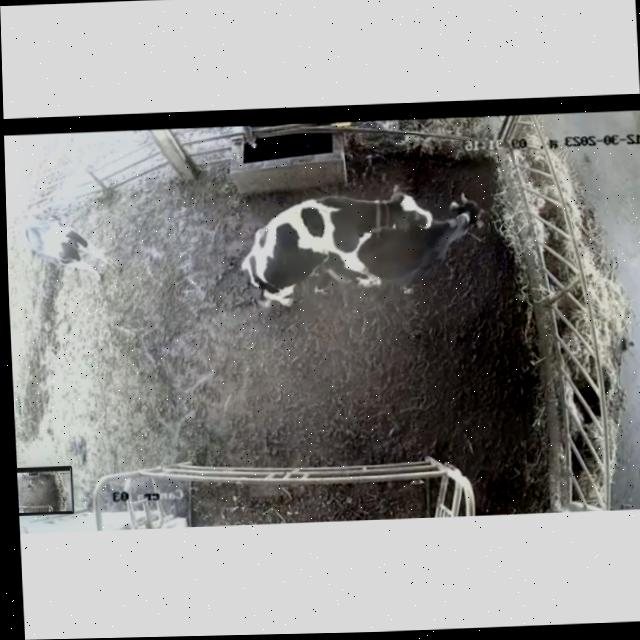ride: (221, 178, 442, 316)
